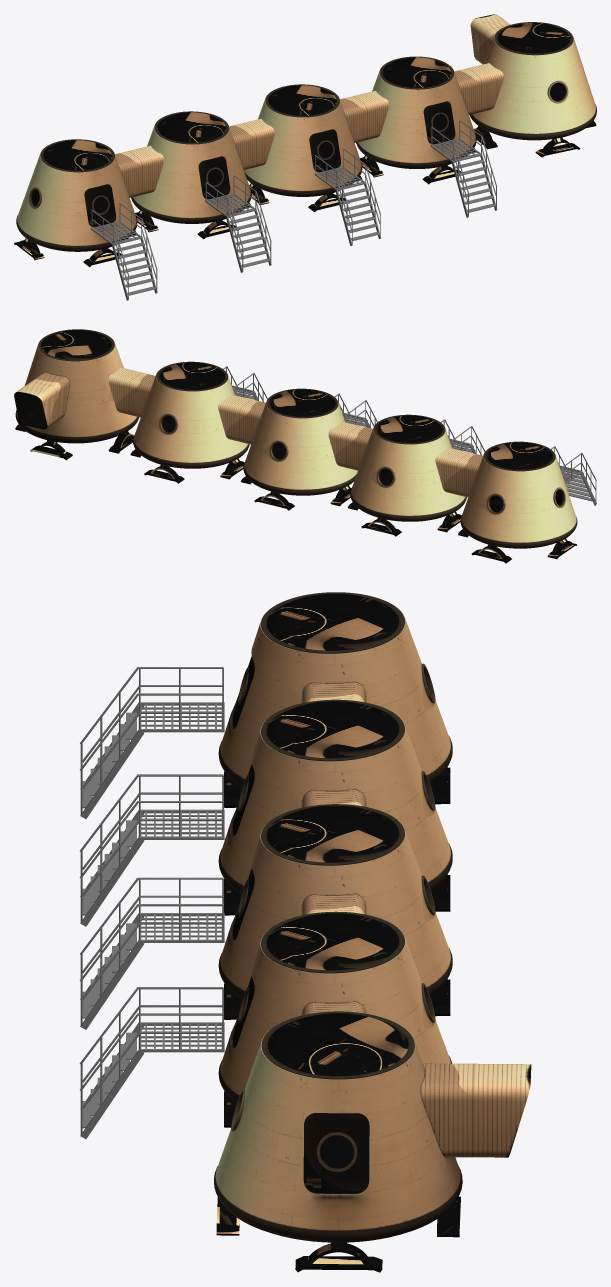
Rendered from marsmodule.glb.
3 renders of one model, top to bottom at view 1: azimuth 30°, elevation 25°; view 2: azimuth 150°, elevation 25°; view 3: azimuth 270°, elevation 25°, orthographic. The views are drawn at different scales.
Visible parts, largest first — view 1: Mars_One___module01 4 (×5), Mars_One6 3 (×4); view 2: Mars_One___module01 4 (×5), Mars_One6 3 (×4); view 3: Mars_One___module01 4 (×5), Mars_One6 3 (×4).
Boxes of the visible parts, x1,y1,x2,y2 form: Mars_One___module01 4 (×5): [14, 14, 596, 266]; Mars_One6 3 (×4): [91, 120, 497, 300]; Mars_One___module01 4 (×5): [14, 329, 577, 563]; Mars_One6 3 (×4): [223, 366, 596, 505]; Mars_One___module01 4 (×5): [214, 592, 531, 1272]; Mars_One6 3 (×4): [79, 667, 224, 1138].
Size of the model in its own units: 0.4219 by 0.0731 by 0.1514.
2 materials, 1 textured.
